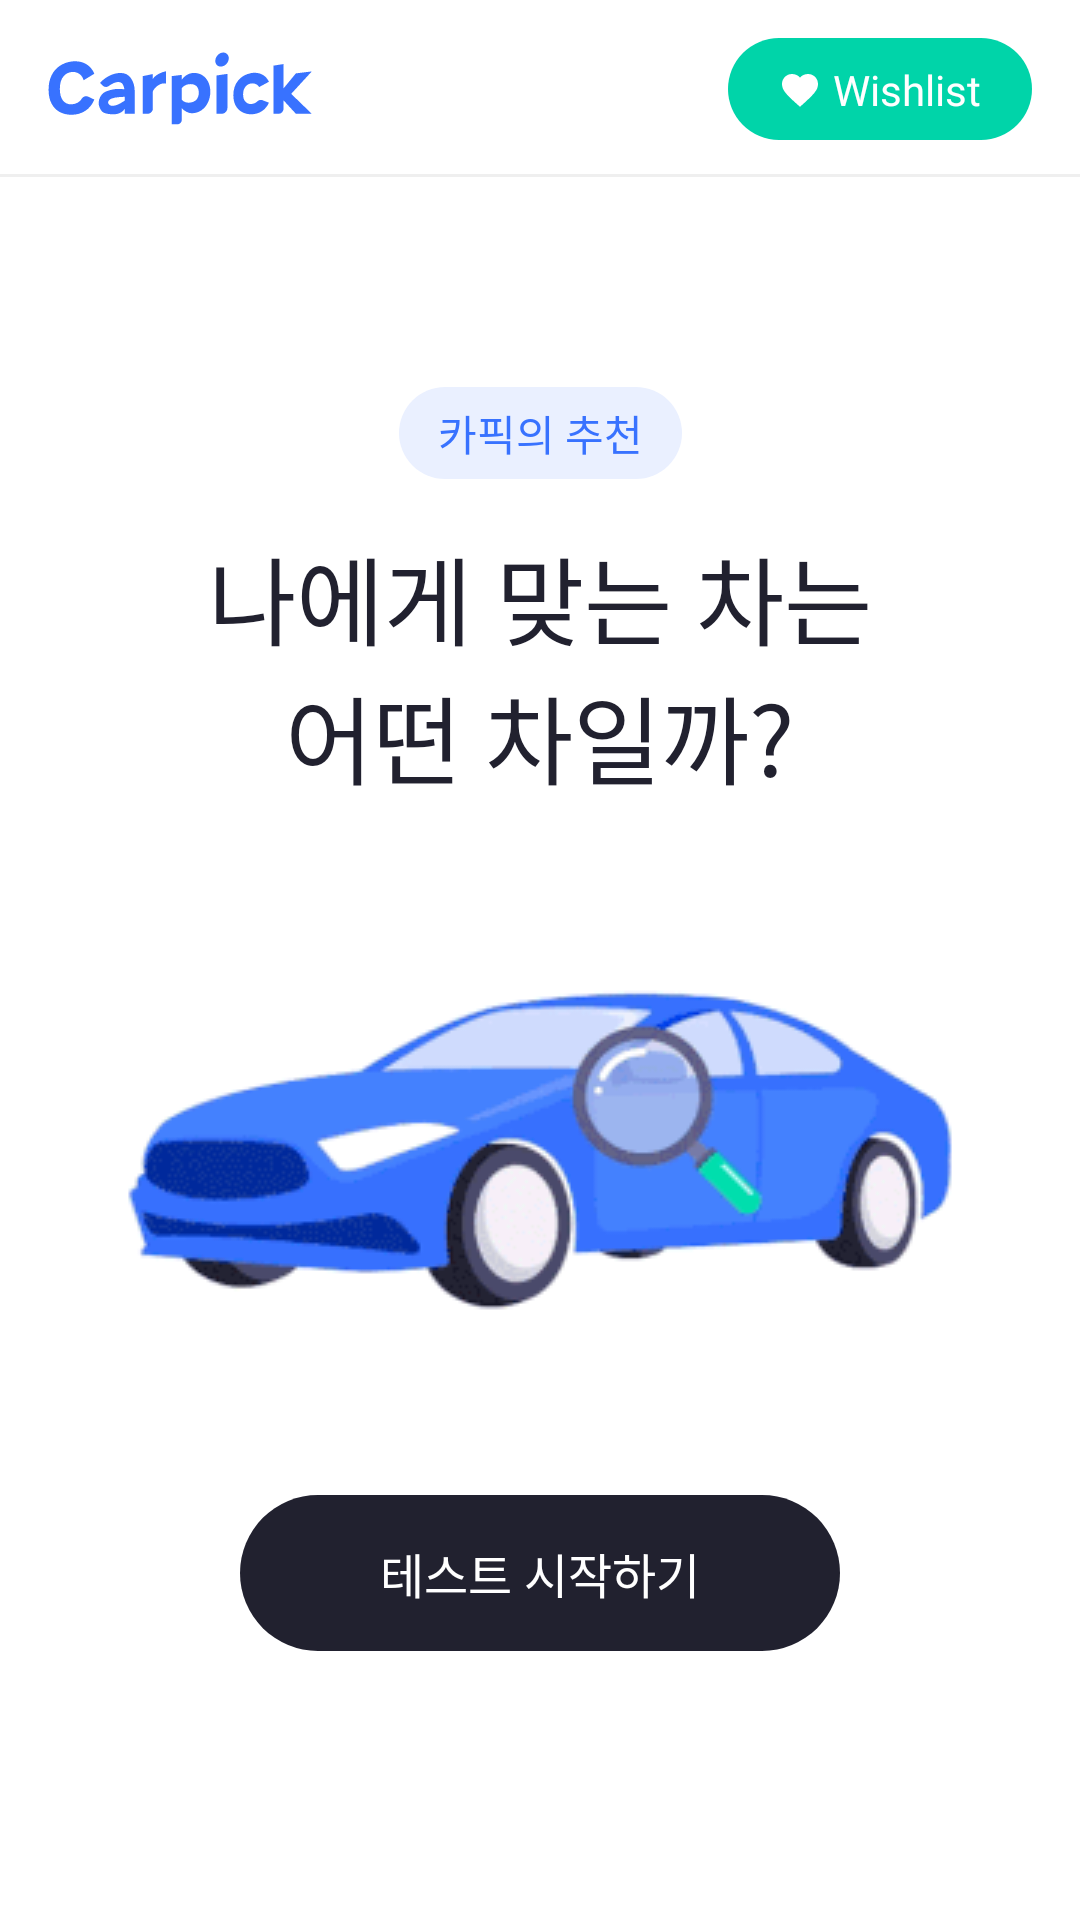

Point at icon controls on the screen. Image size 1080w x 1920h, points as point (x, y).
heart: point (800, 90)
